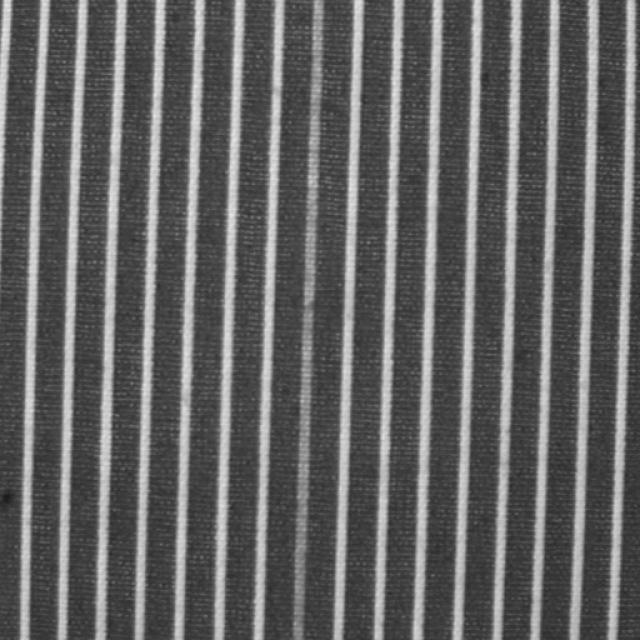Stain-Defect: (291, 0, 321, 639)
